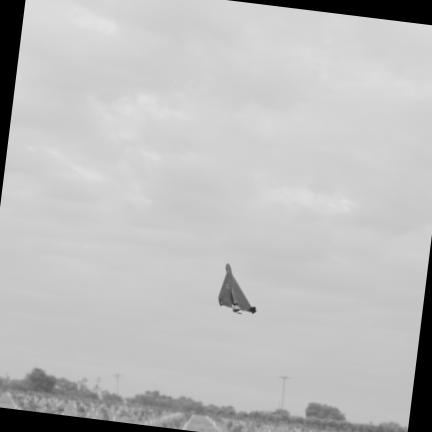Shahed: (218, 265, 255, 312)
